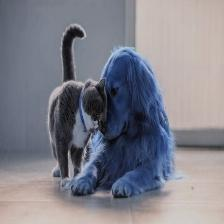kedo: (47, 23, 107, 188)
